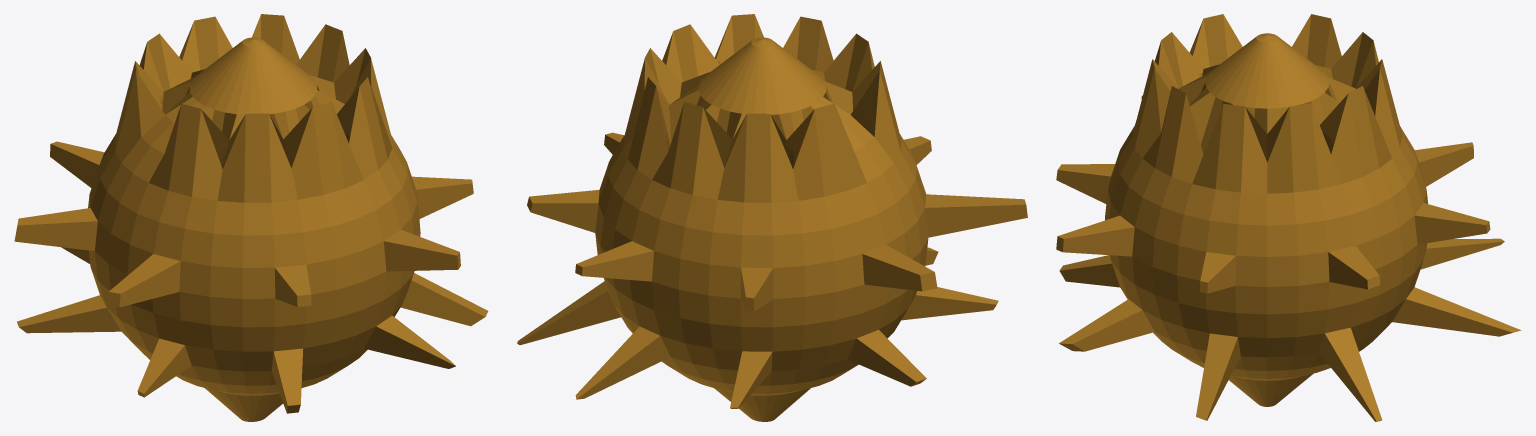
File: TexturedCollectable.fbx
3 views of the same model, side by side, from view 1: azimuth 30°, elevation 25°; view 2: azimuth 150°, elevation 25°; view 3: azimuth 270°, elevation 25° (orthographic). The views are drawn at different scales.
Parts seen in each view (by area): view 1: Sphere; view 2: Sphere; view 3: Sphere.
Part boxes in pixels (x1,y1,x2,y2): Sphere: [14, 14, 488, 421]; Sphere: [517, 14, 1027, 421]; Sphere: [1056, 14, 1521, 421].
Bounding box in the file's own units: 283 × 251 × 287.
Materials: 1 (1 with a texture image).
